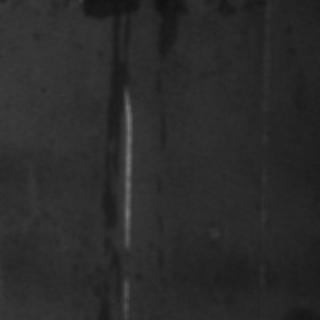inclusion: (151, 0, 181, 64)
scratches: (112, 86, 138, 318)
